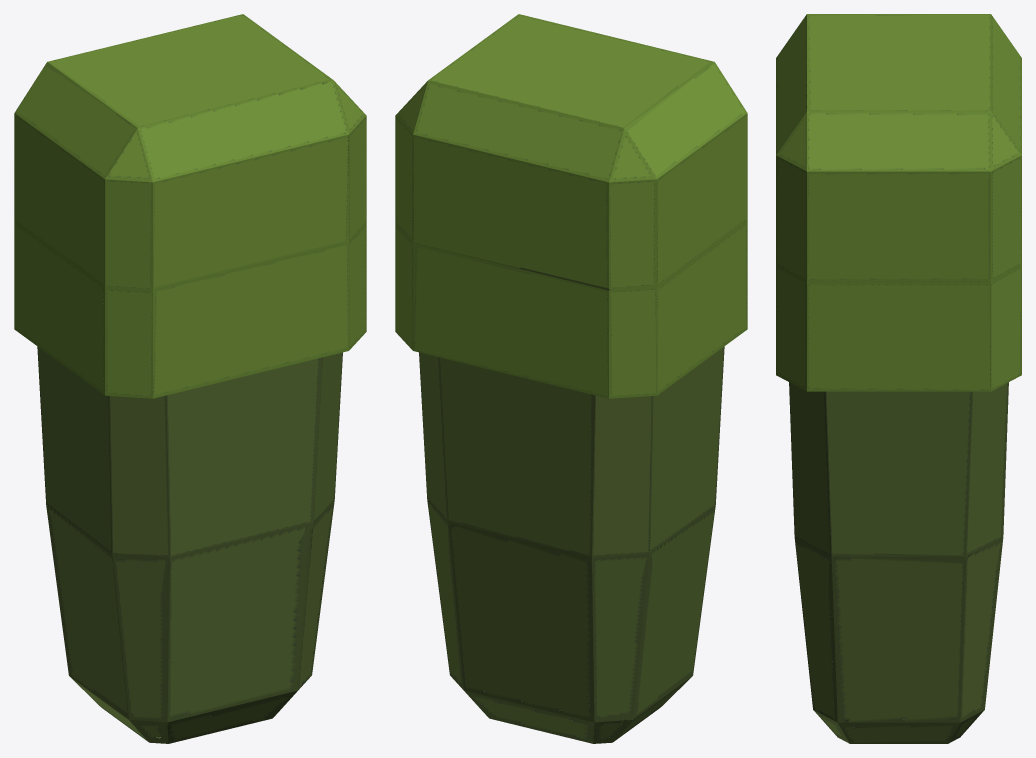
File: RArmAbove.fbx
3 renders of one model, left to right at view 1: azimuth 30°, elevation 25°; view 2: azimuth 150°, elevation 25°; view 3: azimuth 270°, elevation 25°, orthographic.
Parts seen in each view (by area): view 1: Shape_IndexedFaceSet.043; view 2: Shape_IndexedFaceSet.043; view 3: Shape_IndexedFaceSet.043.
Part boxes in pixels (x1,y1,x2,y2): Shape_IndexedFaceSet.043: (14, 14, 366, 743); Shape_IndexedFaceSet.043: (395, 14, 747, 743); Shape_IndexedFaceSet.043: (776, 14, 1021, 743).
Size of the model in its own units: 0.1013 by 0.2361 by 0.0811.
